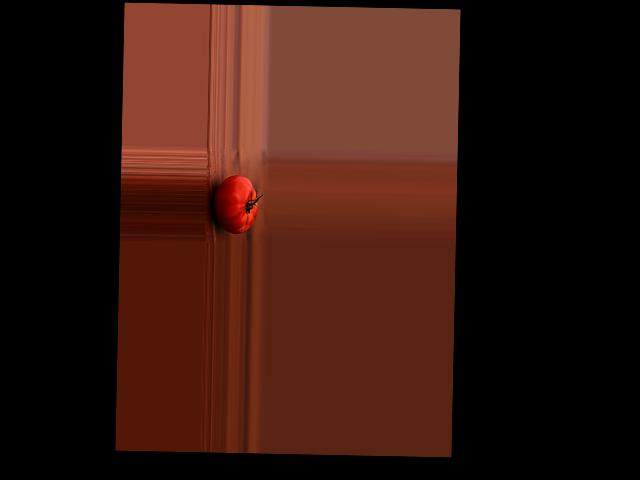tomato: (212, 173, 258, 233)
